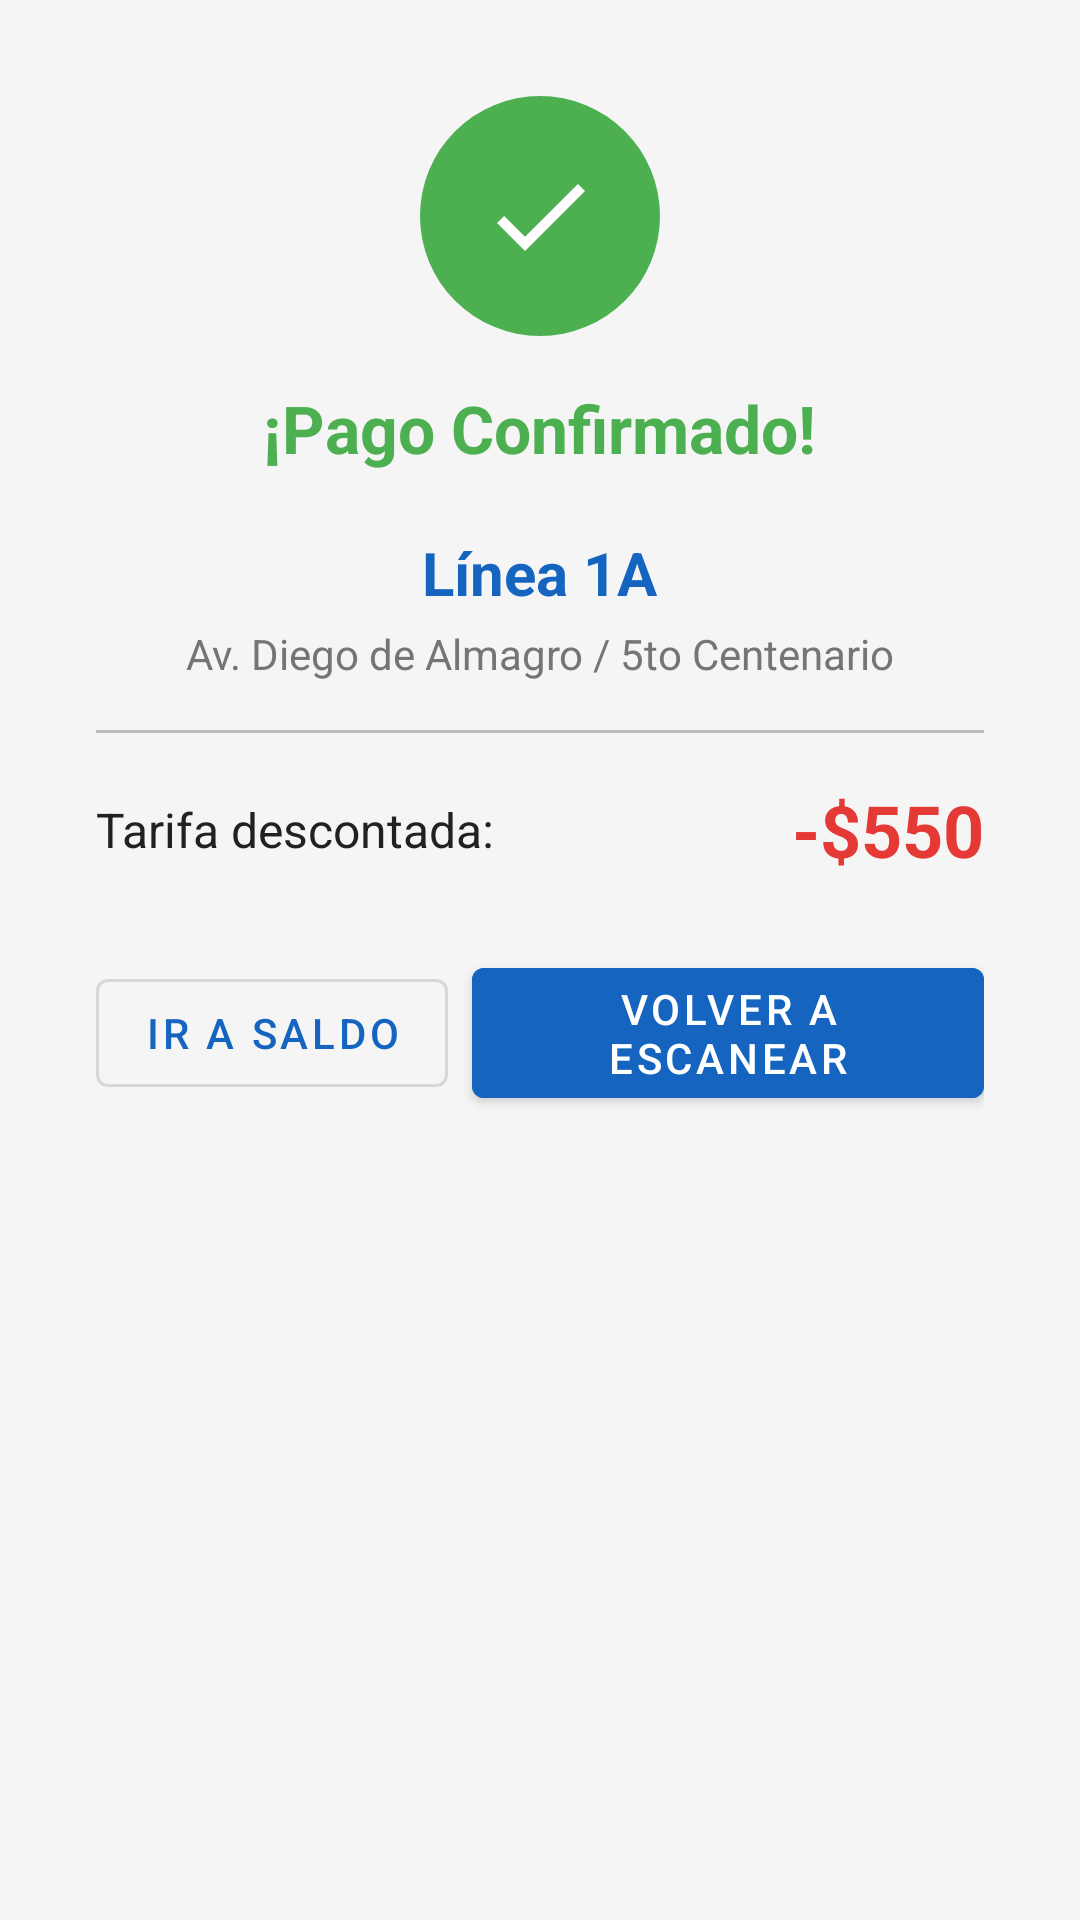

Icons on this 1080px x 1920px Android screen, each with its box as (x1=x1, y1=y1, x2=x2, y2=y2):
check: (x1=420, y1=96, x2=660, y2=336)
